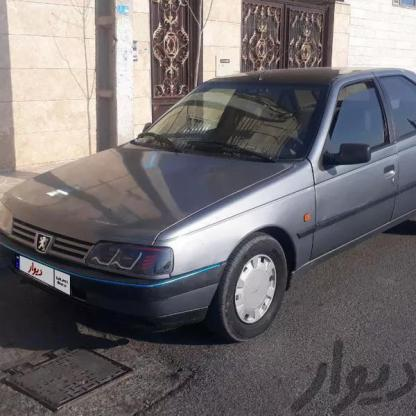Car: (0, 55, 416, 330)
